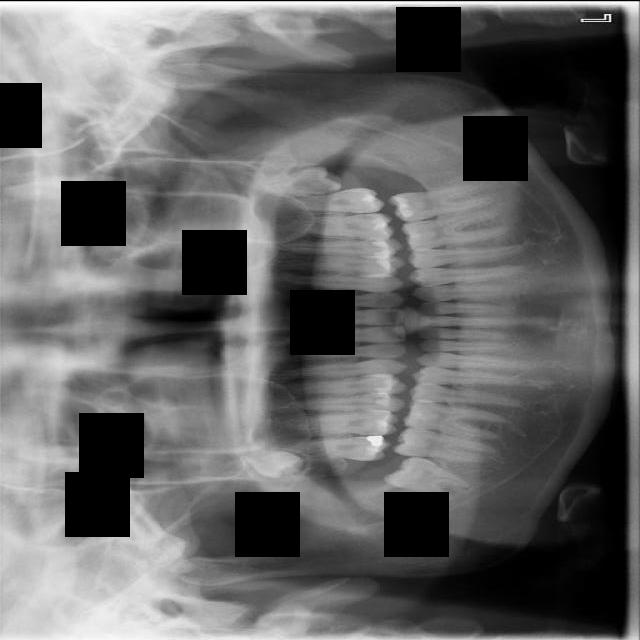3M ESPE Implant: (238, 448, 305, 479)
52: (387, 184, 431, 230), (350, 208, 397, 243), (360, 252, 405, 281), (341, 186, 386, 214), (357, 235, 402, 260), (360, 408, 398, 435), (350, 435, 391, 460), (364, 372, 407, 394), (363, 391, 405, 413)
73: (584, 32, 602, 44)
BioHorizons Implant: (284, 186, 385, 215)
BioLife Implant: (254, 163, 341, 197)
Blue Sky Bio Implant: (387, 181, 494, 224)
Caries: (281, 434, 391, 465)
Implant: (391, 423, 498, 465)
Keystone Dental Implant: (381, 445, 472, 509)
